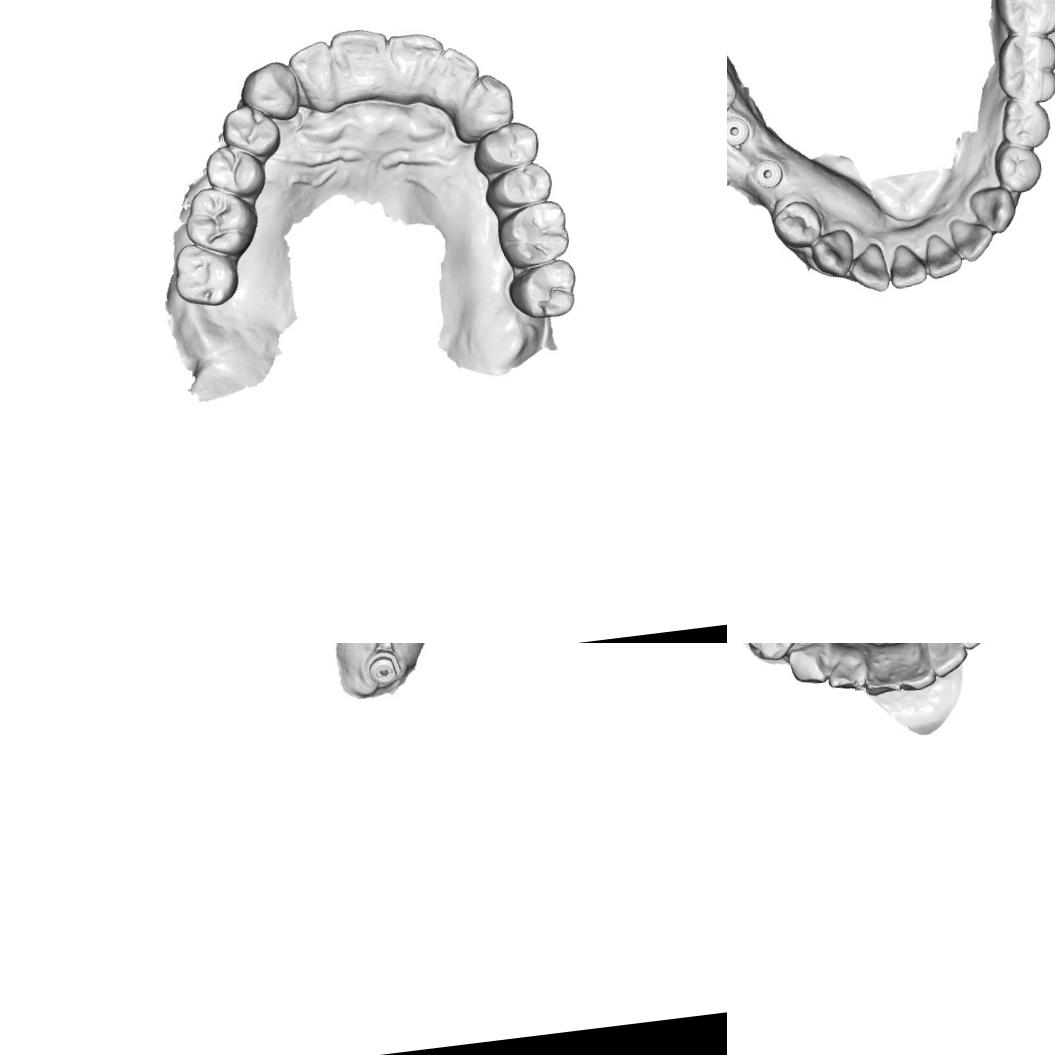canine: (447, 70, 519, 146), (236, 58, 302, 126), (966, 184, 1019, 236), (809, 228, 858, 282), (784, 643, 841, 688)
implant: (750, 156, 786, 192), (727, 113, 753, 150)
implant_minus: (362, 645, 405, 688)
incisor: (328, 24, 394, 100), (386, 29, 449, 105), (285, 38, 338, 118), (425, 44, 484, 114), (845, 240, 895, 298), (948, 214, 996, 264), (922, 229, 965, 280), (886, 240, 929, 290), (824, 654, 871, 693), (896, 651, 938, 693), (860, 657, 902, 698), (923, 643, 970, 679)
molar: (180, 182, 262, 262), (494, 198, 572, 272), (169, 238, 244, 312), (504, 256, 581, 322), (992, 28, 1055, 107), (989, 0, 1055, 39)
premolar: (469, 118, 544, 179), (202, 140, 269, 207), (217, 100, 284, 165), (481, 160, 556, 213), (998, 92, 1054, 154), (768, 198, 824, 256), (991, 136, 1045, 196), (742, 643, 804, 665)
